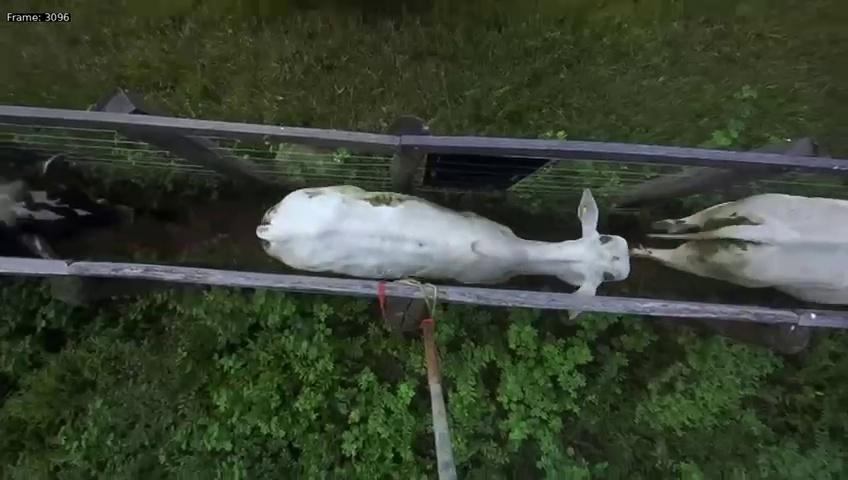cattle: (245, 174, 632, 315)
